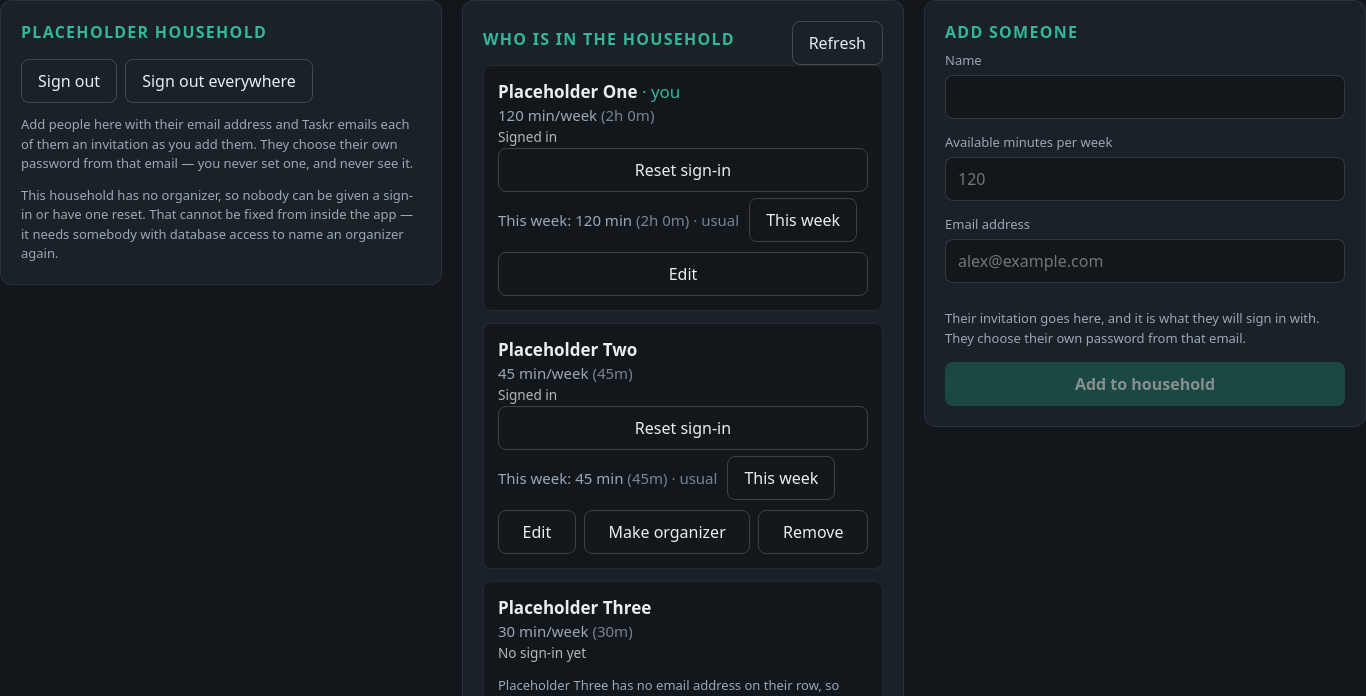
Test case: handing the organizer role over from the roster (#179) › hands nothing over on the first tap
Click the button "Make organizer". click: (667, 532)
box: [584,510,750,554]
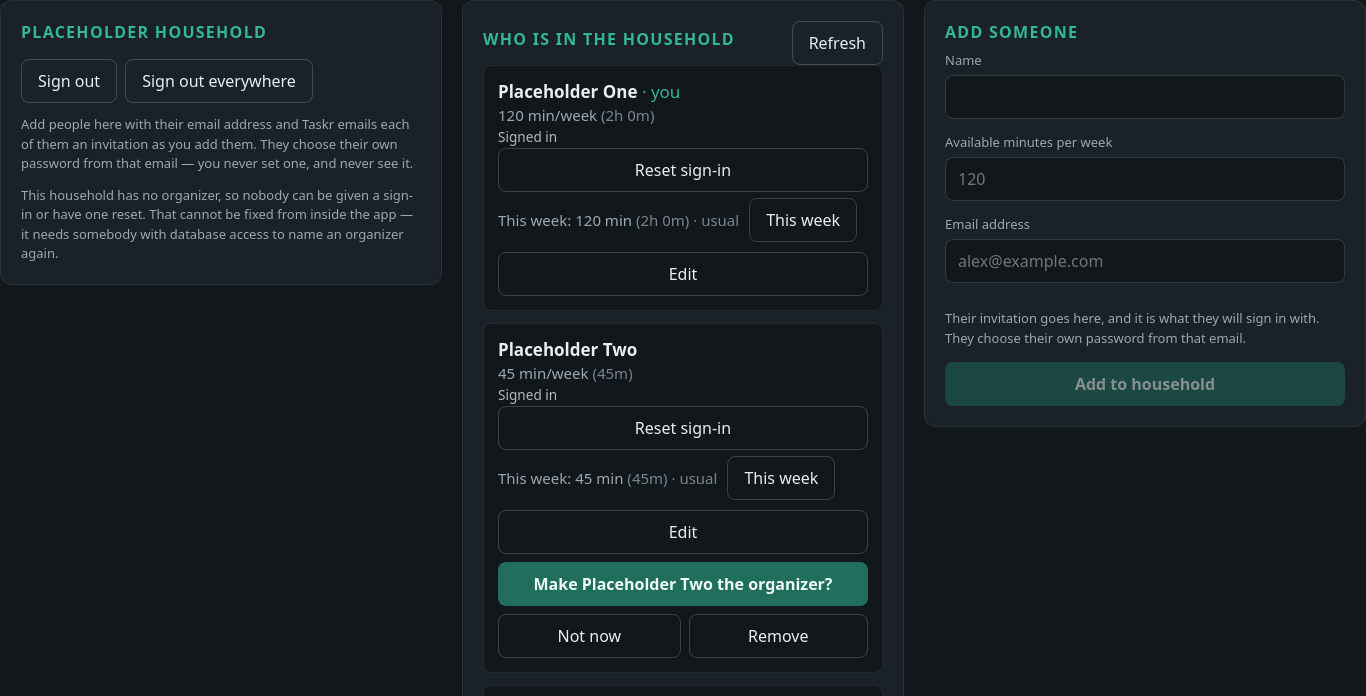
Now the button "Make Placeholder Two the organizer?" is shown, box [498,562,868,606]
